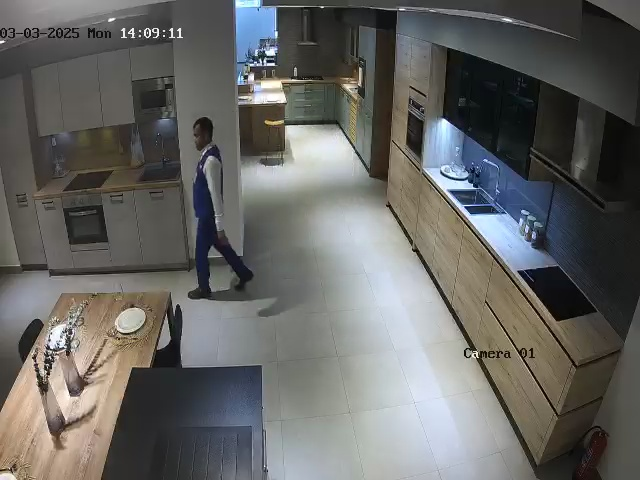employee: (187, 117, 254, 300)
